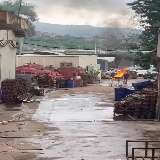fire: (113, 68, 126, 77)
